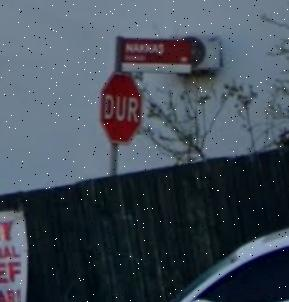stop: (100, 70, 144, 145)
